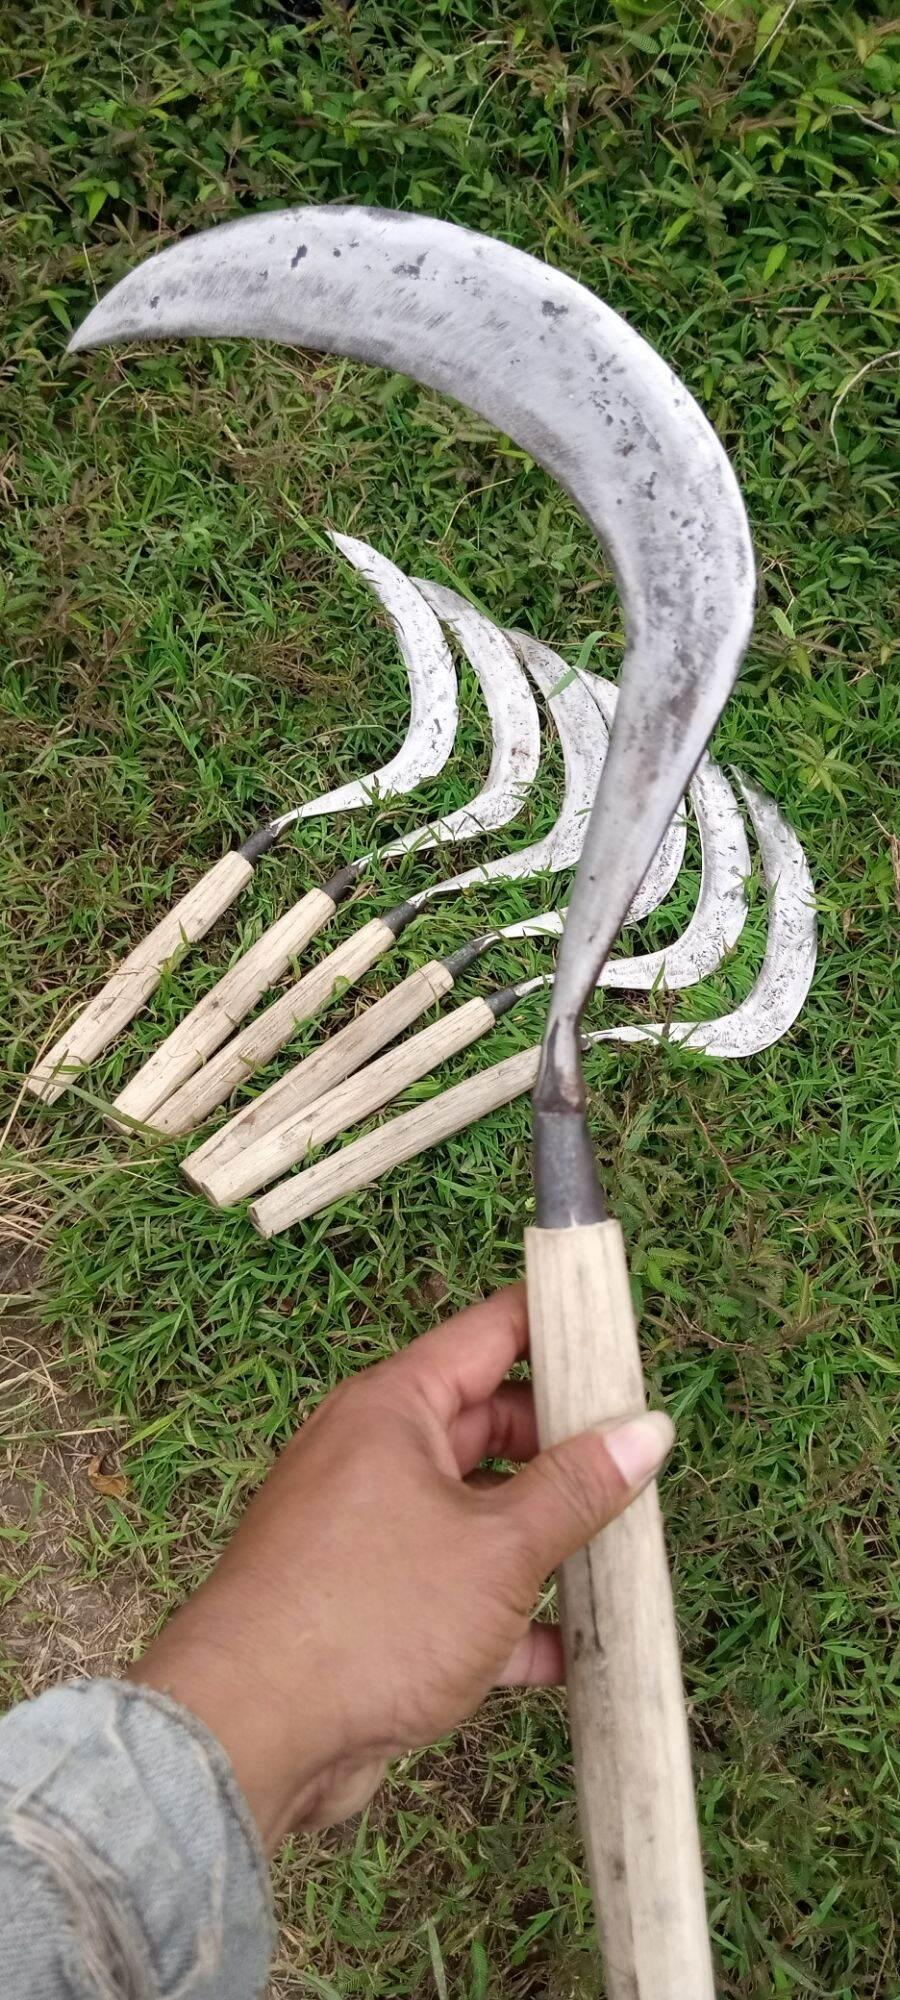foice: (97, 163, 760, 1996), (255, 740, 820, 1240), (23, 520, 450, 1122), (147, 617, 614, 1144), (110, 579, 543, 1125)
